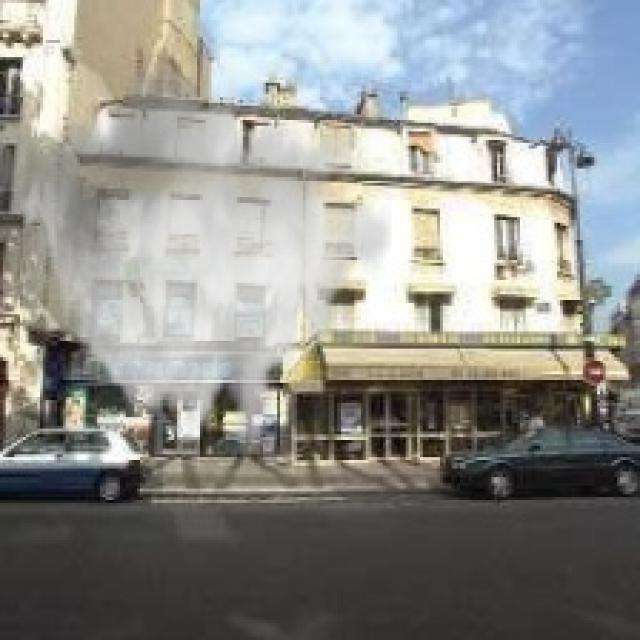smoke: (14, 54, 392, 460)
